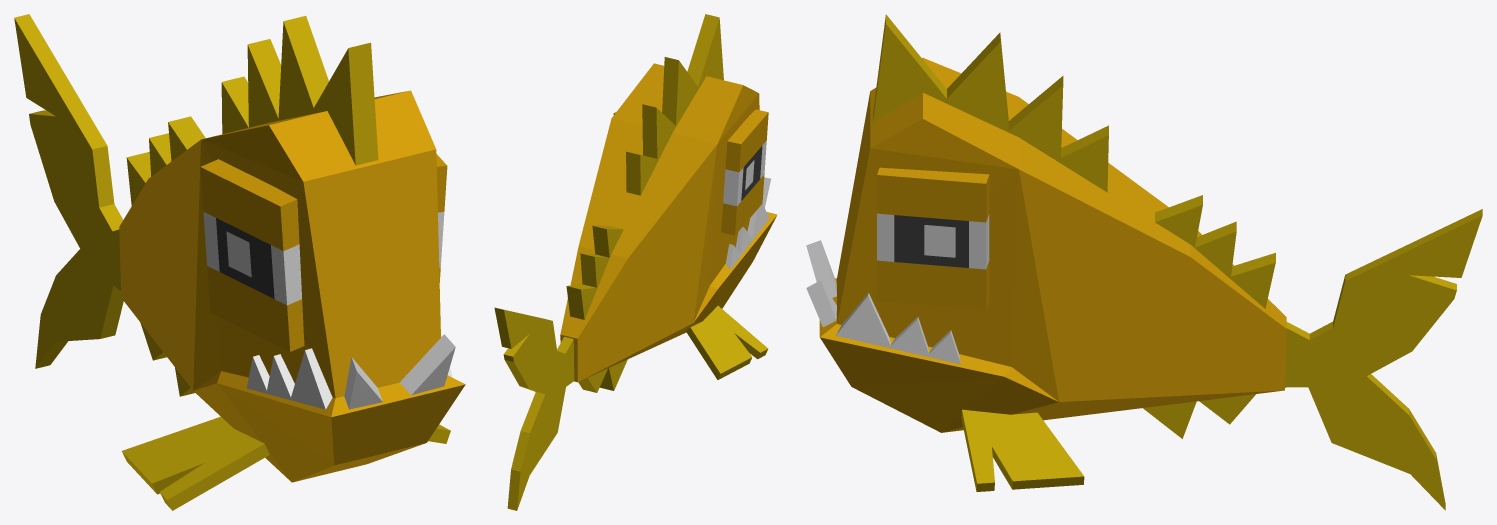
File: gold.fbx
3 renders of one model, left to right at view 1: azimuth 30°, elevation 25°; view 2: azimuth 150°, elevation 25°; view 3: azimuth 270°, elevation 25°, orthographic. The views are drawn at different scales.
Parts seen in each view (by area): view 1: Cube.013; view 2: Cube.013; view 3: Cube.013.
Part boxes in pixels (x1,y1,x2,y2): Cube.013: [14, 14, 465, 510]; Cube.013: [494, 14, 777, 510]; Cube.013: [806, 14, 1482, 510].
Bounding box in the file's own units: 1.52 × 2.83 × 3.56.
